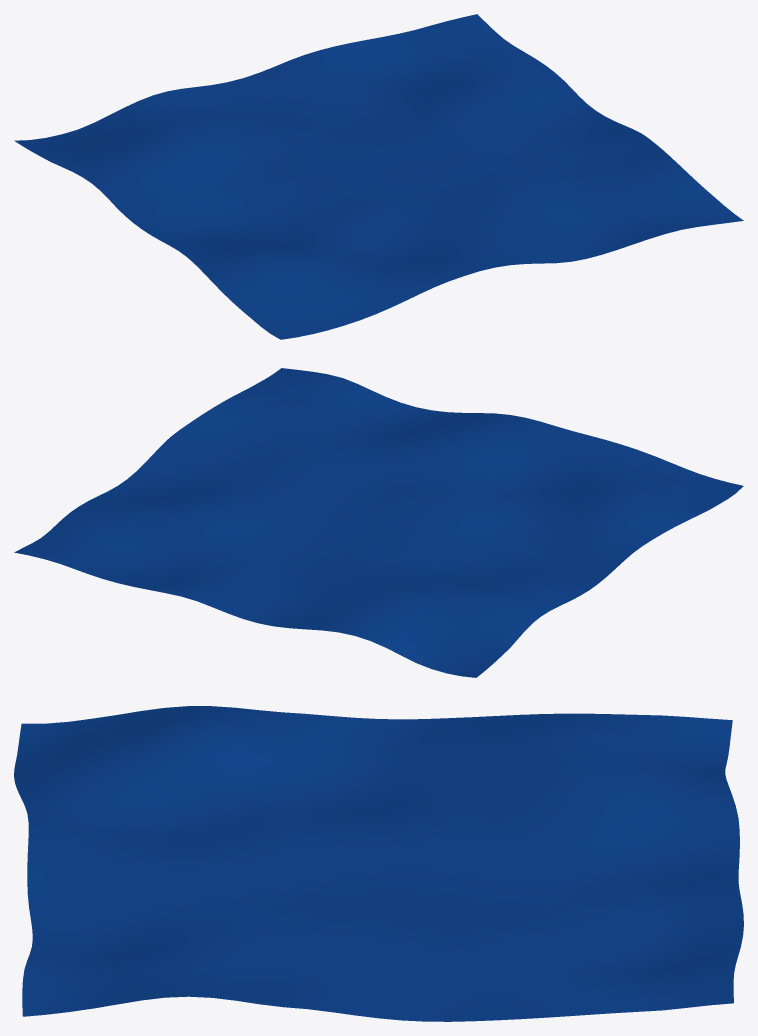
File: wave_0.obj
3 views of the same model, one above another, from view 1: azimuth 30°, elevation 25°; view 2: azimuth 150°, elevation 25°; view 3: azimuth 270°, elevation 25° (orthographic). The views are drawn at different scales.
Parts seen in each view (by area): view 1: Plane001; view 2: Plane001; view 3: Plane001.
Boxes of the visible parts, x1,y1,x2,y2 form: Plane001: (14, 14, 743, 339); Plane001: (14, 368, 743, 677); Plane001: (14, 706, 743, 1021).
Bounding box in the file's own units: 404 × 16.81 × 404.
